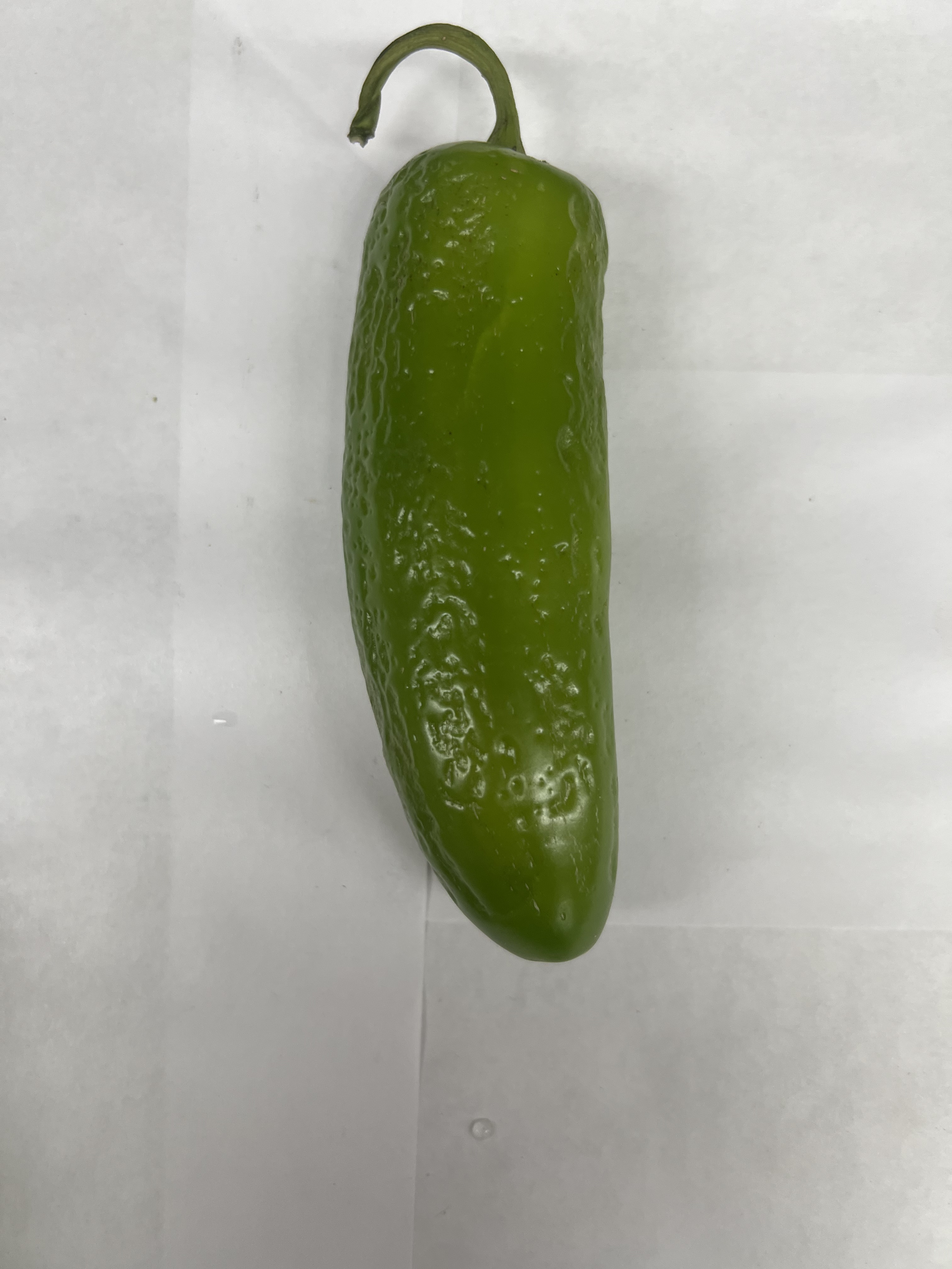produce: (334, 19, 632, 971)
